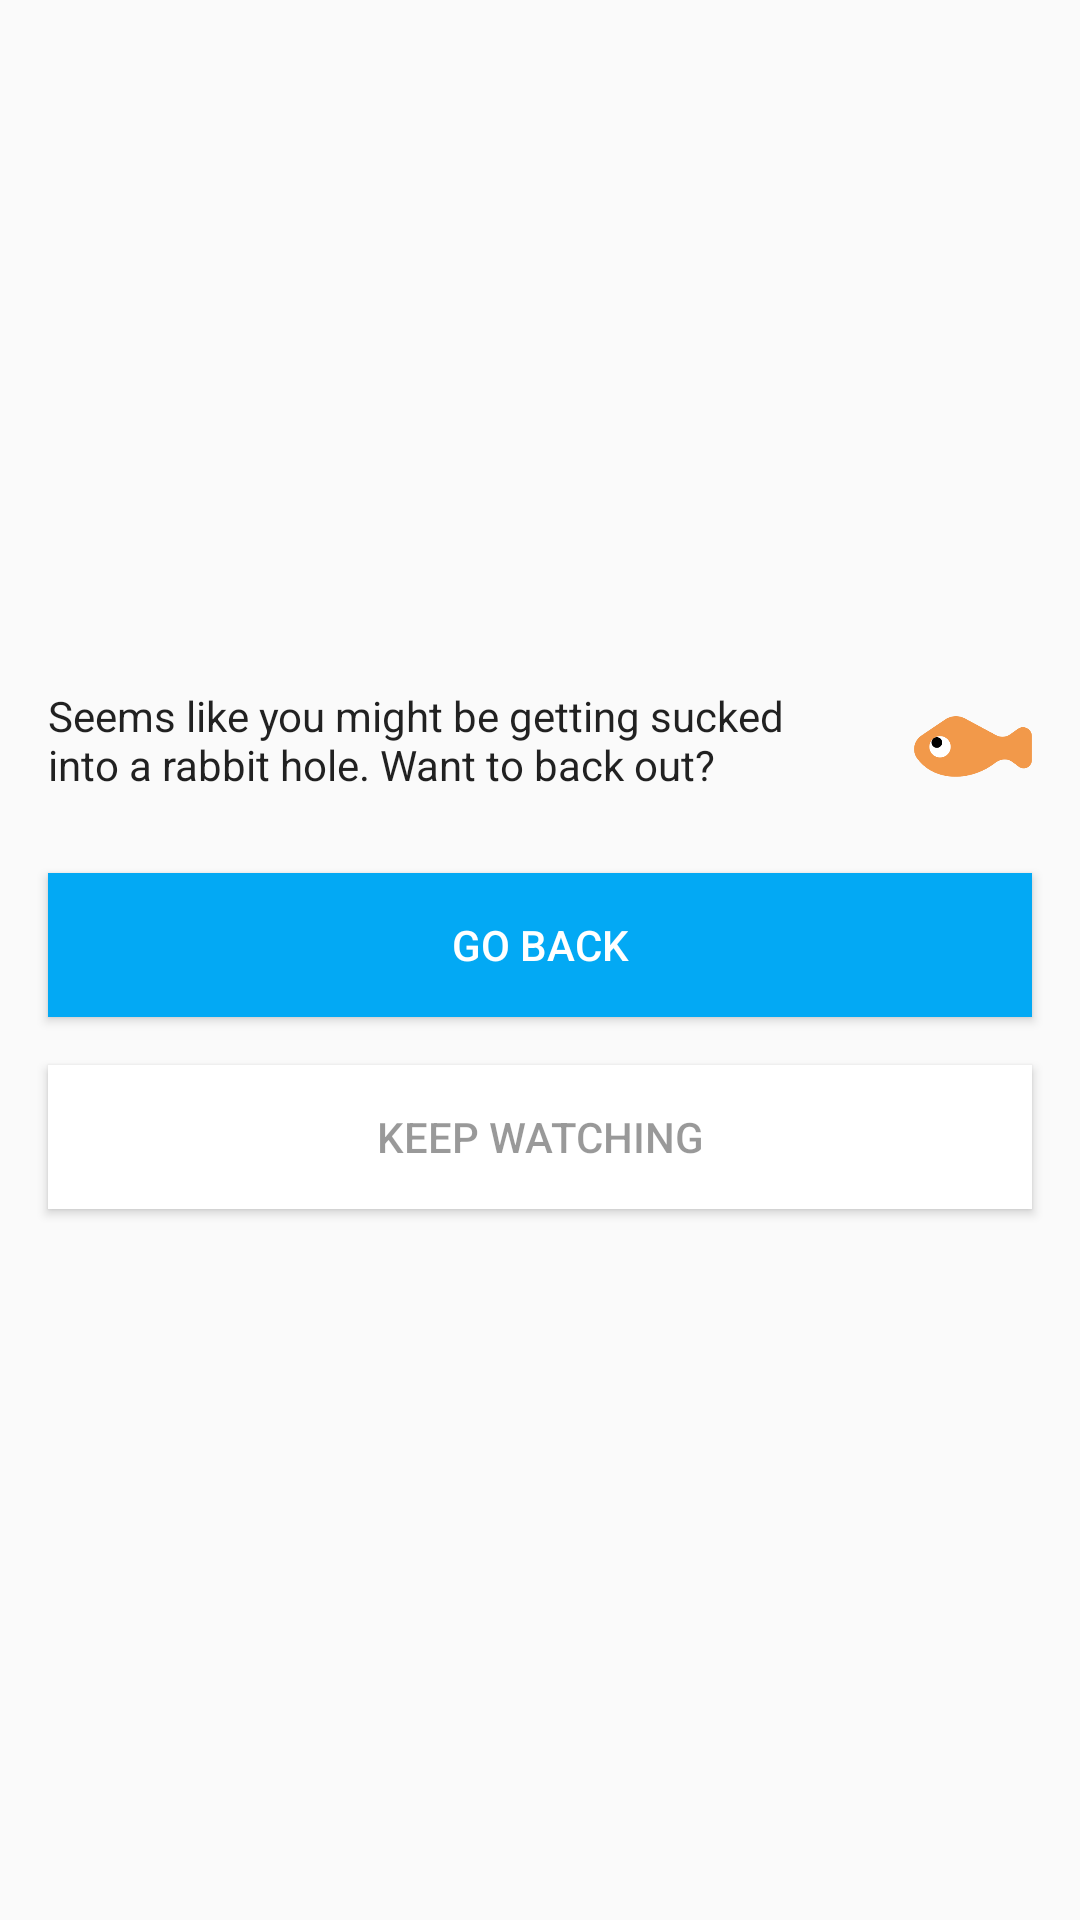

Point at icon controls on the screen. Image size 1080px x 1920px, points as point (x, y).
fish: point (973, 746)
